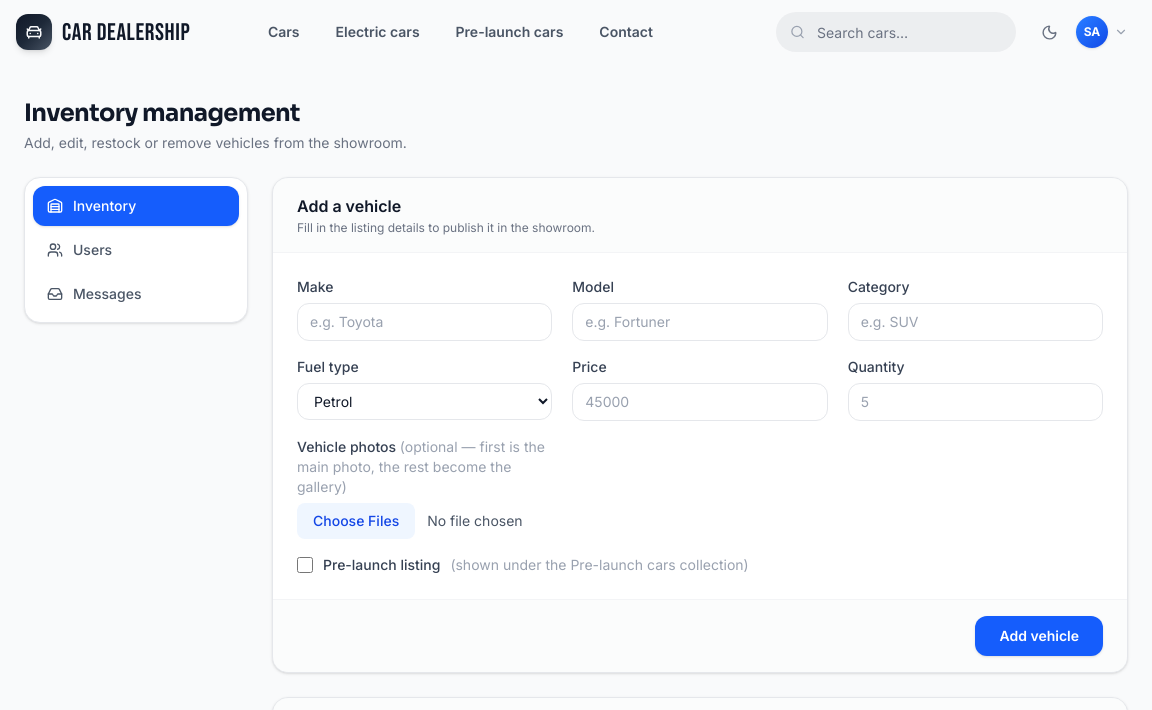
Test: AdminPage sidebar › swaps to users without scrolling past the inventory
Click the button "Users": (136, 250) [33, 230, 239, 270]
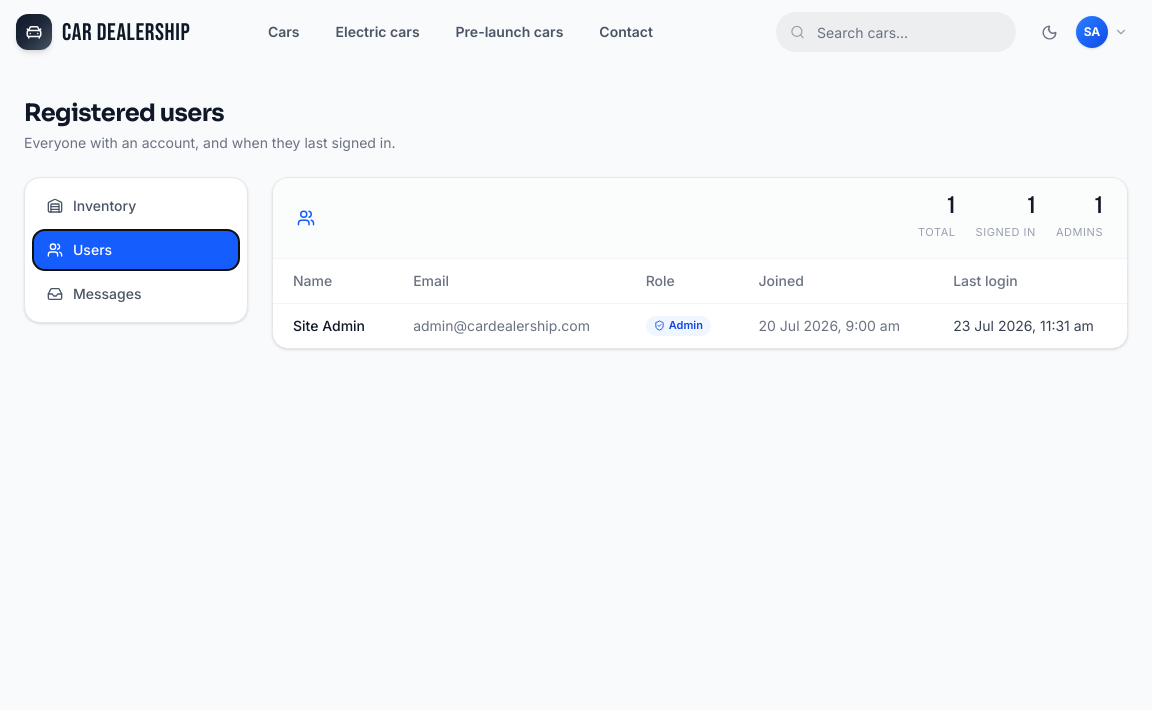
Expected: the element named "registered users" is shown, [272, 177, 1128, 349]
Expected: the label labelled "Make" is gone
